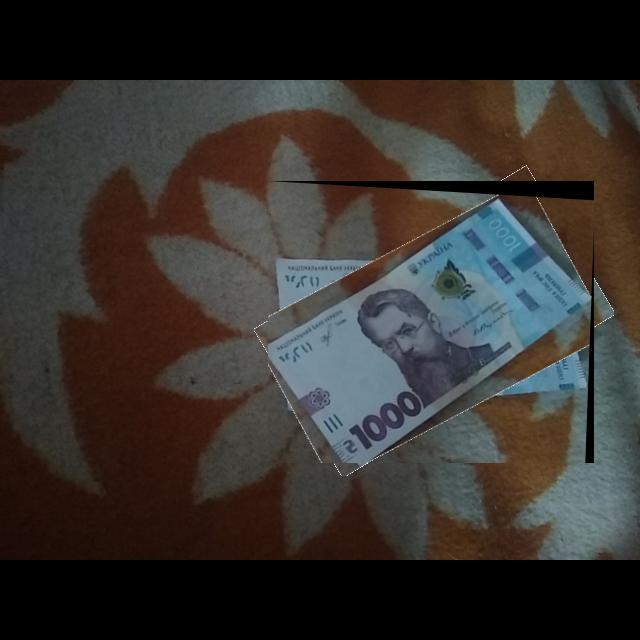1000uah: (268, 193, 593, 464)
